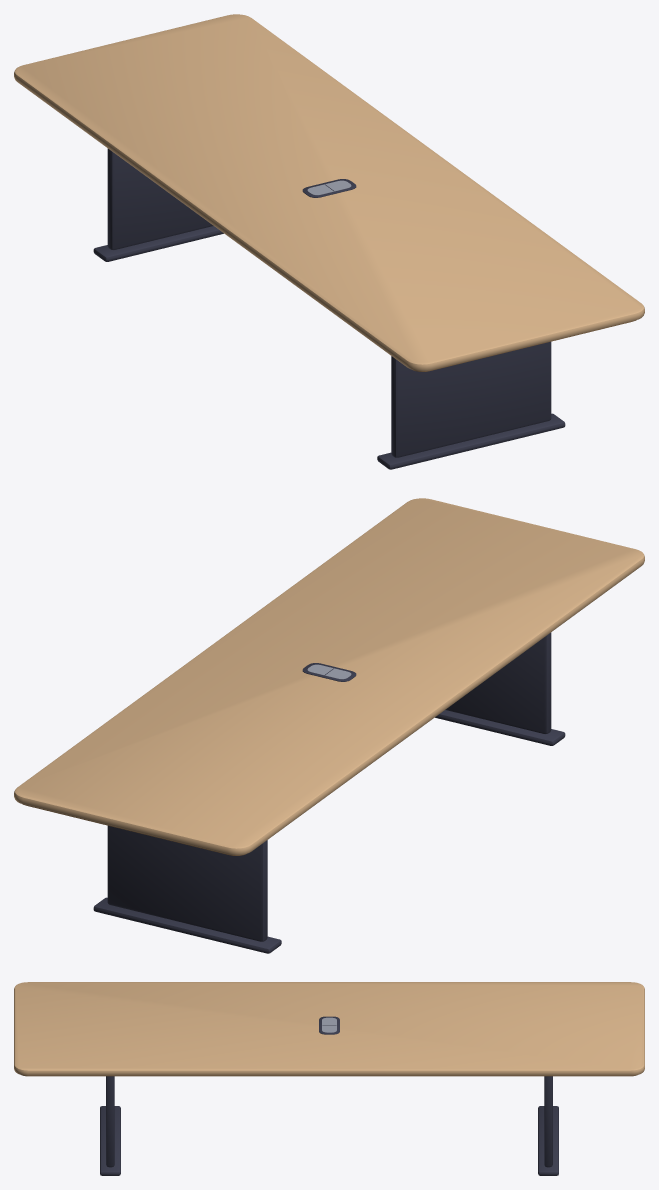
The model's file is table_conference.glb.
3 renders of one model, top to bottom at view 1: azimuth 30°, elevation 25°; view 2: azimuth 150°, elevation 25°; view 3: azimuth 270°, elevation 25°, orthographic. The views are drawn at different scales.
Parts seen in each view (by area): view 1: oak, charcoal; view 2: oak, charcoal; view 3: oak, charcoal, oak_edge.
Boxes of the visible parts, x1,y1,x2,y2 form: oak: (14,14,644,371); charcoal: (93,148,565,469); oak: (14,498,644,855); charcoal: (93,632,565,953); oak: (14,982,644,1075); charcoal: (100,1016,558,1175); oak_edge: (21,1075,637,1076).
Size of the model in its own units: 1.2 by 0.7448 by 3.6.
